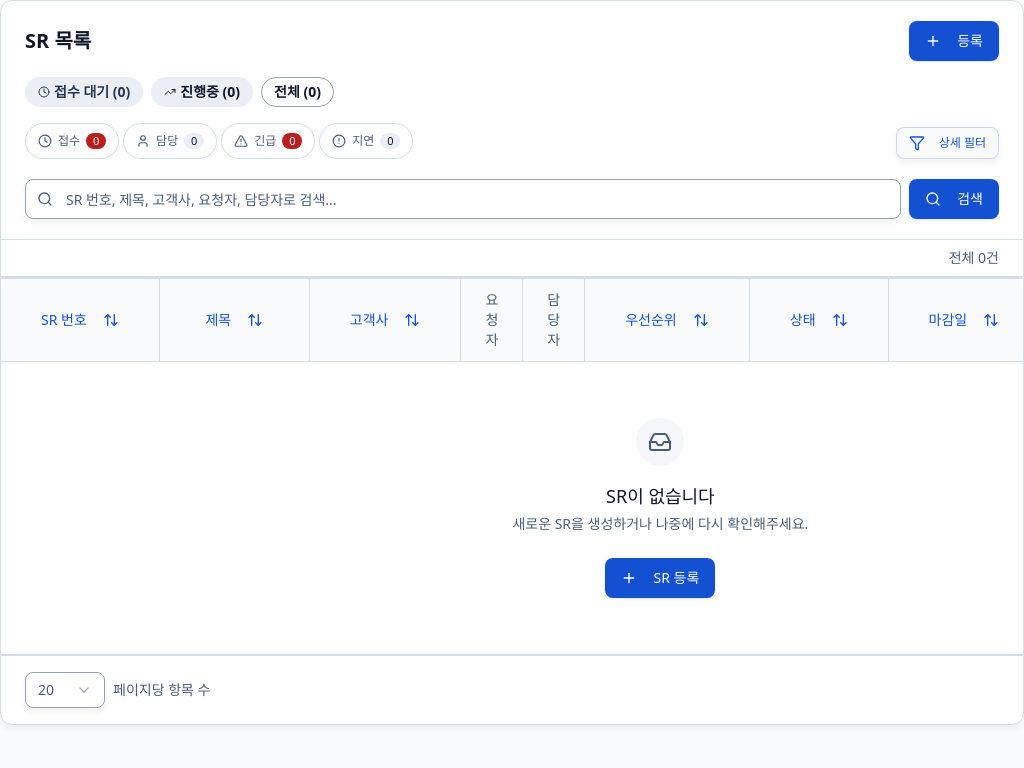
it: SRsDataTable Search Component › clears input when clear button is clicked
The width and height of the screenshot is (1024, 768).
Type "test" into the field with placeholder "SR 번호, 제목, 고객사, 요청자, 담당자로 검색...". click: (463, 199)
box: [25,179,901,219]
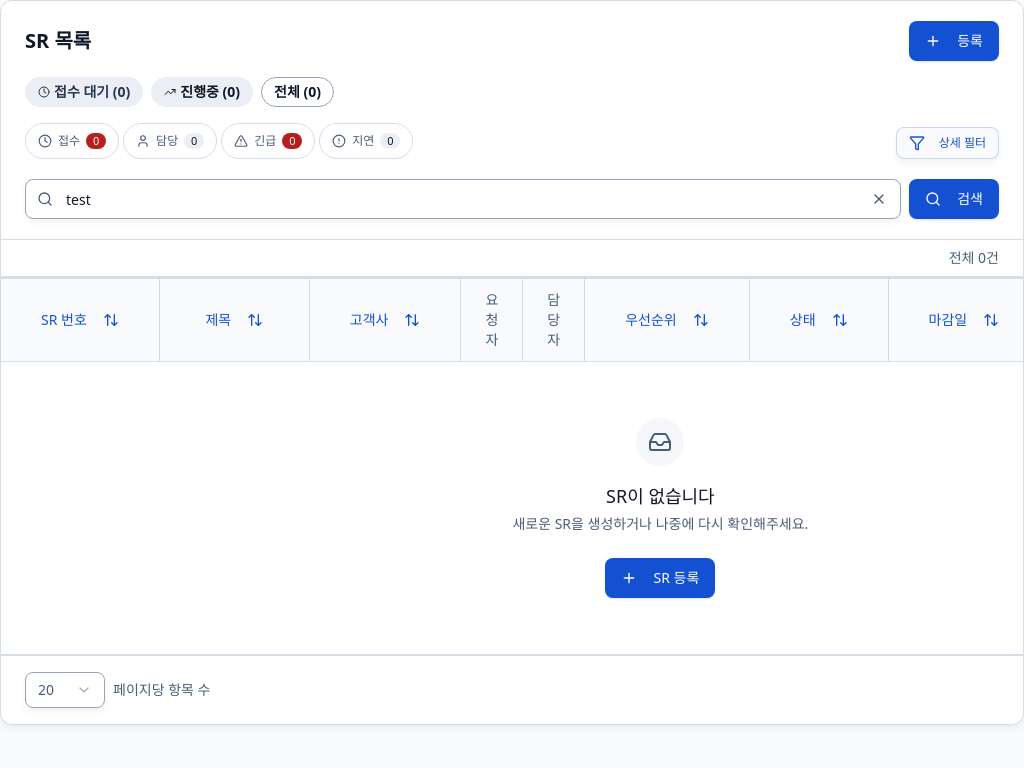
Click the button named "검색어 초기화". click: (879, 199)
box: [869,189,889,209]
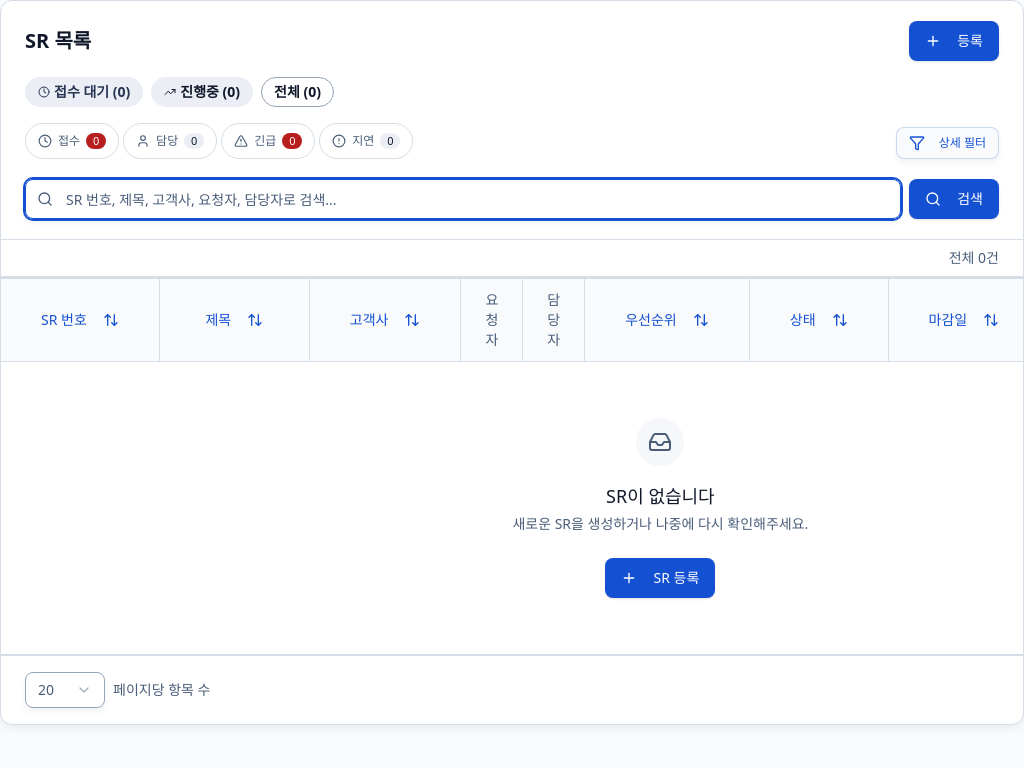
Expected: the field with placeholder "SR 번호, 제목, 고객사, 요청자, 담당자로 검색..." is empty, [25,179,901,219]
